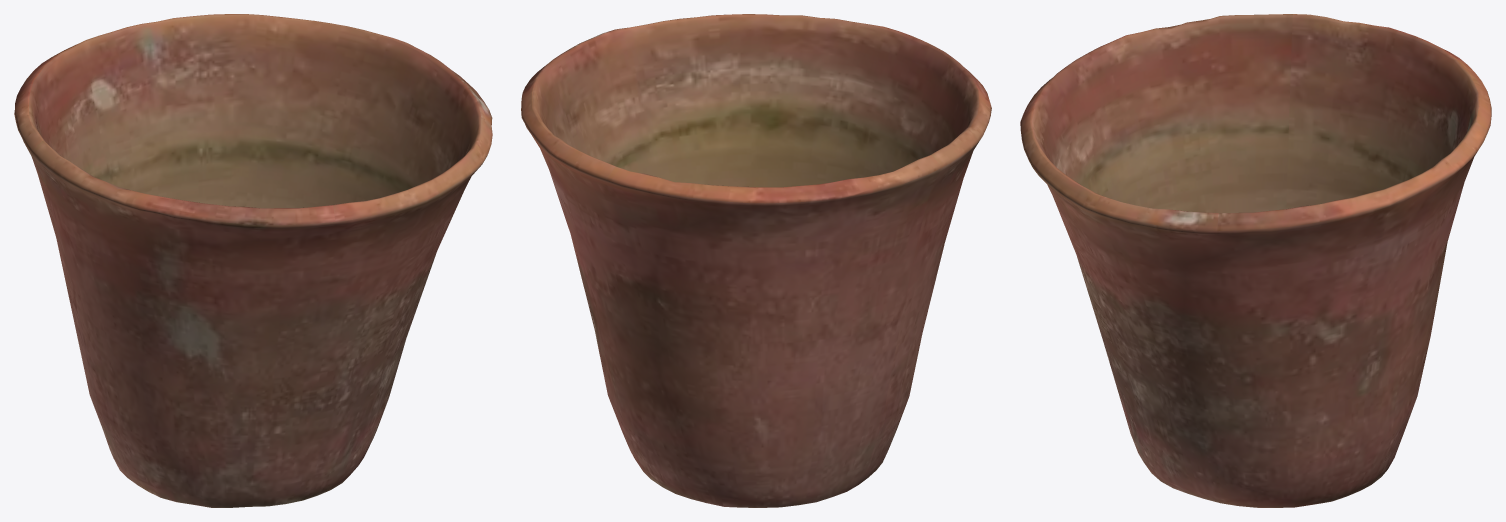
The model's file is planter_pot_clay.glb.
The picture shows the model from 3 angles, left to right: view 1: azimuth 30°, elevation 25°; view 2: azimuth 150°, elevation 25°; view 3: azimuth 270°, elevation 25°; orthographic projection.
Parts seen in each view (by area): view 1: planter_pot_clay; view 2: planter_pot_clay; view 3: planter_pot_clay.
Boxes of the visible parts, left/top/right/bottom form: planter_pot_clay: left=14, top=14, right=492, bottom=507; planter_pot_clay: left=521, top=14, right=991, bottom=507; planter_pot_clay: left=1020, top=14, right=1491, bottom=507.
Size of the model in its own units: 0.266 by 0.2219 by 0.2635.
1 material, 1 textured.
